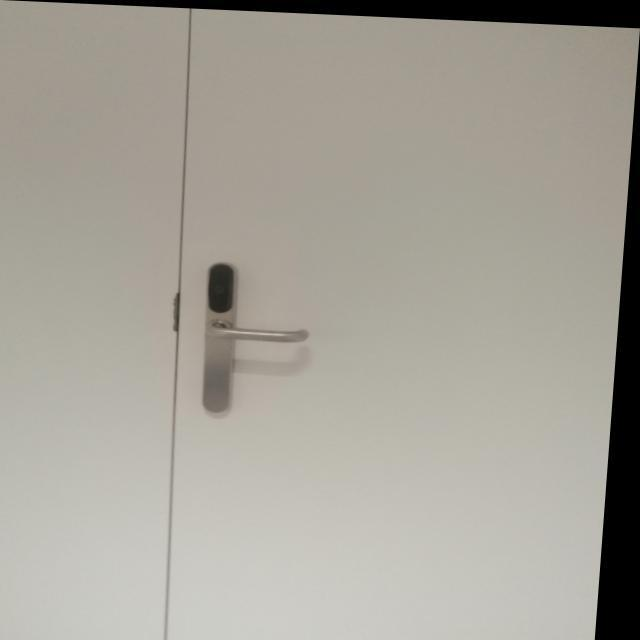door_handle: (204, 316, 319, 343)
